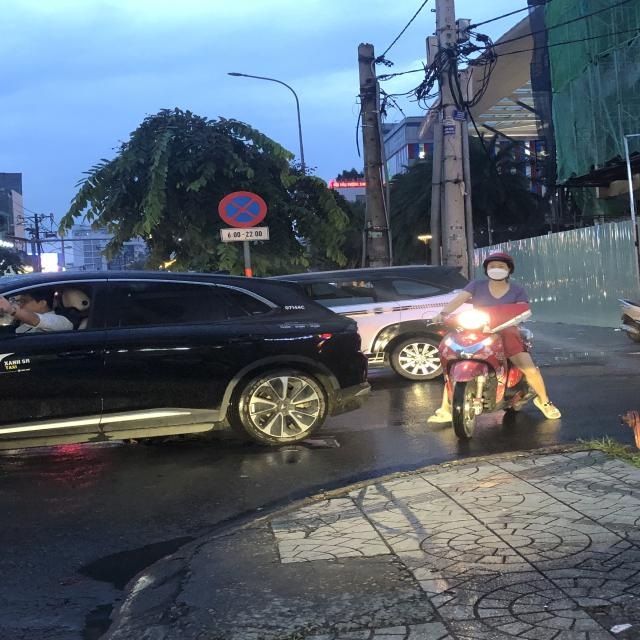Bien bao cam dung xe va do xe: (215, 188, 272, 228)
